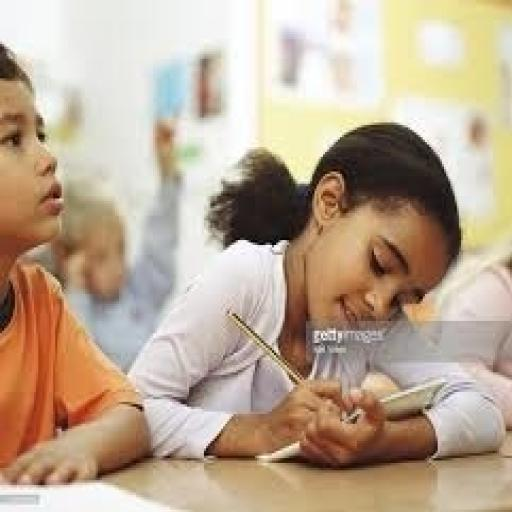sitting: (125, 117, 510, 468), (0, 32, 153, 487)
